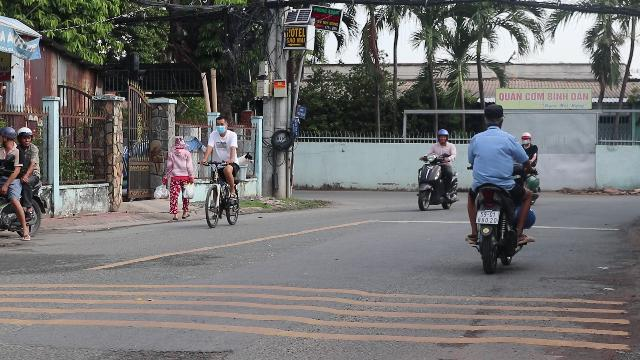helmet: (0, 126, 16, 148), (17, 126, 33, 146)
licenseplate: (477, 210, 499, 224)
motorcyclist: (460, 102, 538, 270), (0, 123, 48, 249)
nohelmet: (481, 103, 505, 130)
